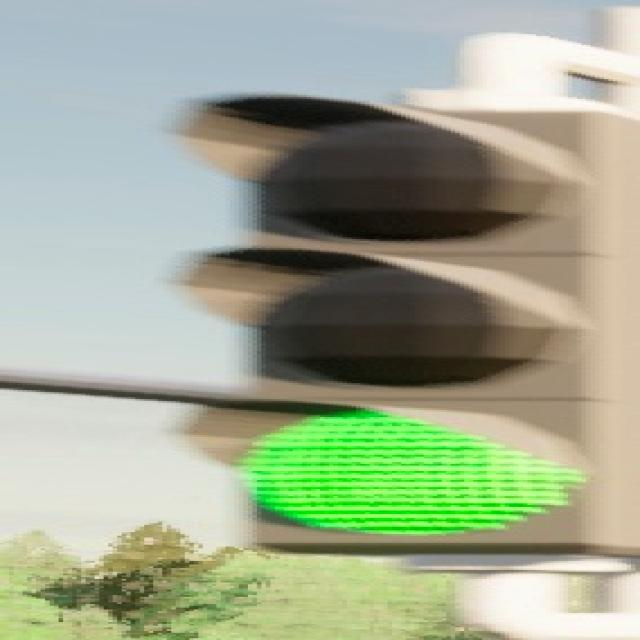green_light: (175, 81, 640, 557)
